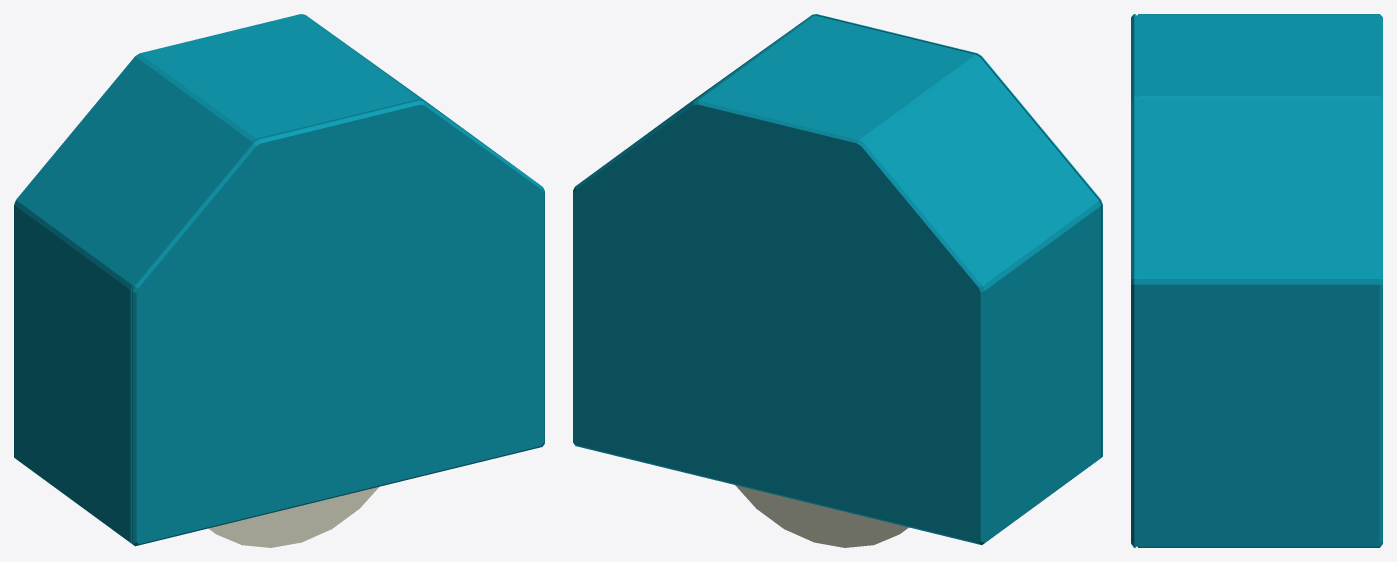
The model's file is M7130-shalun.FBX.
3 renders of one model, left to right at view 1: azimuth 30°, elevation 25°; view 2: azimuth 150°, elevation 25°; view 3: azimuth 270°, elevation 25°, orthographic. The views are drawn at different scales.
Visible parts, largest first — view 1: Box15, Cylinder028; view 2: Box15, Cylinder028; view 3: Box15.
Part boxes in pixels (bbox=[...]): Box15: bbox=[14, 14, 544, 546]; Cylinder028: bbox=[208, 486, 379, 547]; Box15: bbox=[573, 14, 1102, 544]; Cylinder028: bbox=[735, 485, 908, 547]; Box15: bbox=[1131, 14, 1382, 547].
Size of the model in its own units: 484 by 512 by 247.
